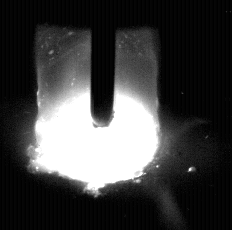arame: (92, 0, 115, 128)
poca: (35, 0, 160, 230)
